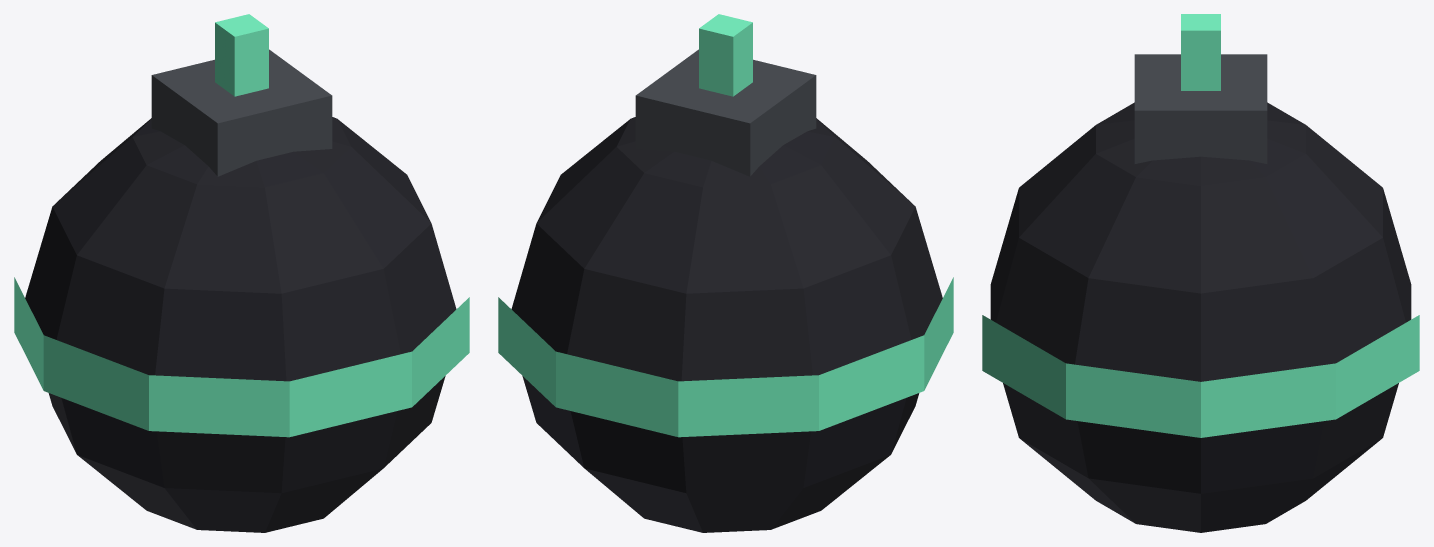
File: ghoul_bomb.glb
3 renders of one model, left to right at view 1: azimuth 30°, elevation 25°; view 2: azimuth 150°, elevation 25°; view 3: azimuth 270°, elevation 25°, orthographic.
Parts seen in each view (by area): view 1: ghoul_bomb; view 2: ghoul_bomb; view 3: ghoul_bomb.
Boxes of the visible parts, bbox=[...] form: ghoul_bomb: bbox=[14, 14, 469, 532]; ghoul_bomb: bbox=[498, 14, 953, 532]; ghoul_bomb: bbox=[982, 14, 1419, 532].
Size of the model in its own units: 0.416 by 0.49 by 0.3956.
Materials: 1 (1 with a texture image).
